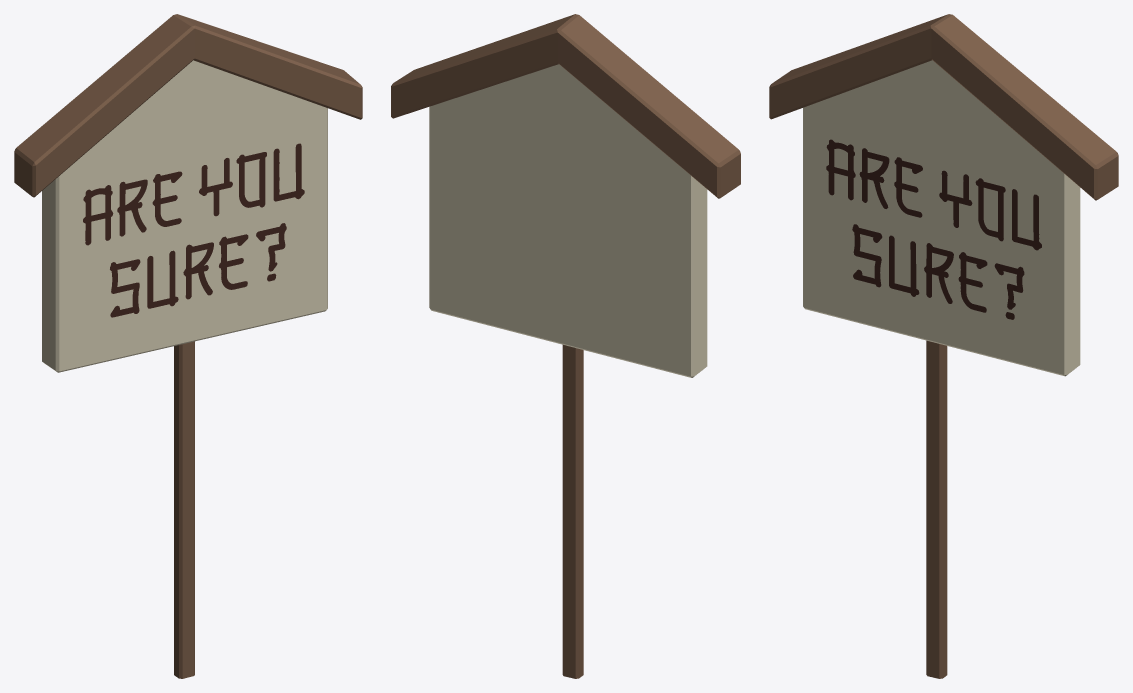
File: sign_are_you_sure.fbx
3 views of the same model, side by side, from view 1: azimuth 30°, elevation 25°; view 2: azimuth 150°, elevation 25°; view 3: azimuth 330°, elevation 25° (orthographic).
Parts seen in each view (by area): view 1: sign_are_you_sure; view 2: sign_are_you_sure; view 3: sign_are_you_sure.
Boxes of the visible parts, bbox=[...] form: sign_are_you_sure: bbox=[14, 14, 362, 678]; sign_are_you_sure: bbox=[391, 14, 740, 678]; sign_are_you_sure: bbox=[769, 14, 1118, 678].
Size of the model in its own units: 78.58 by 148 by 9.52.
